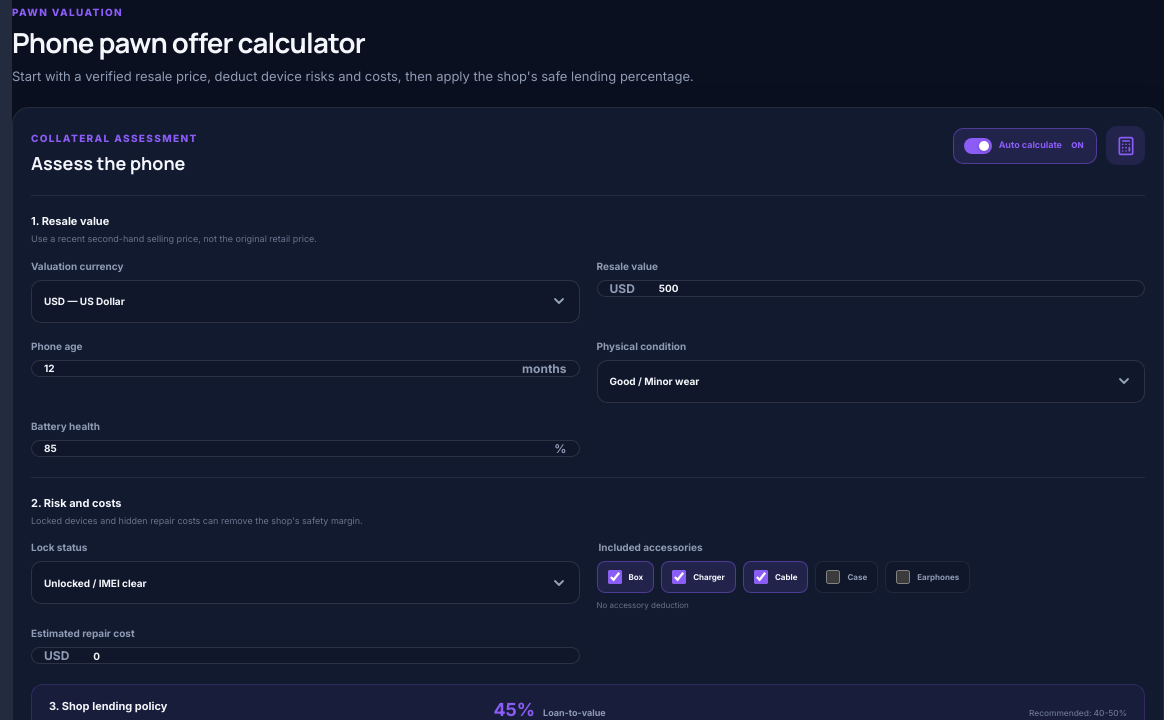
Test: DepreciationPage feature integration › calculates depreciation matching documented business rules using independently calculated expected values
The width and height of the screenshot is (1164, 720).
# Set market price to 600
Step 1. Replace the text in the field labelled "Resale value USD" with "600" → (895, 288), box [647,281,1144,296]
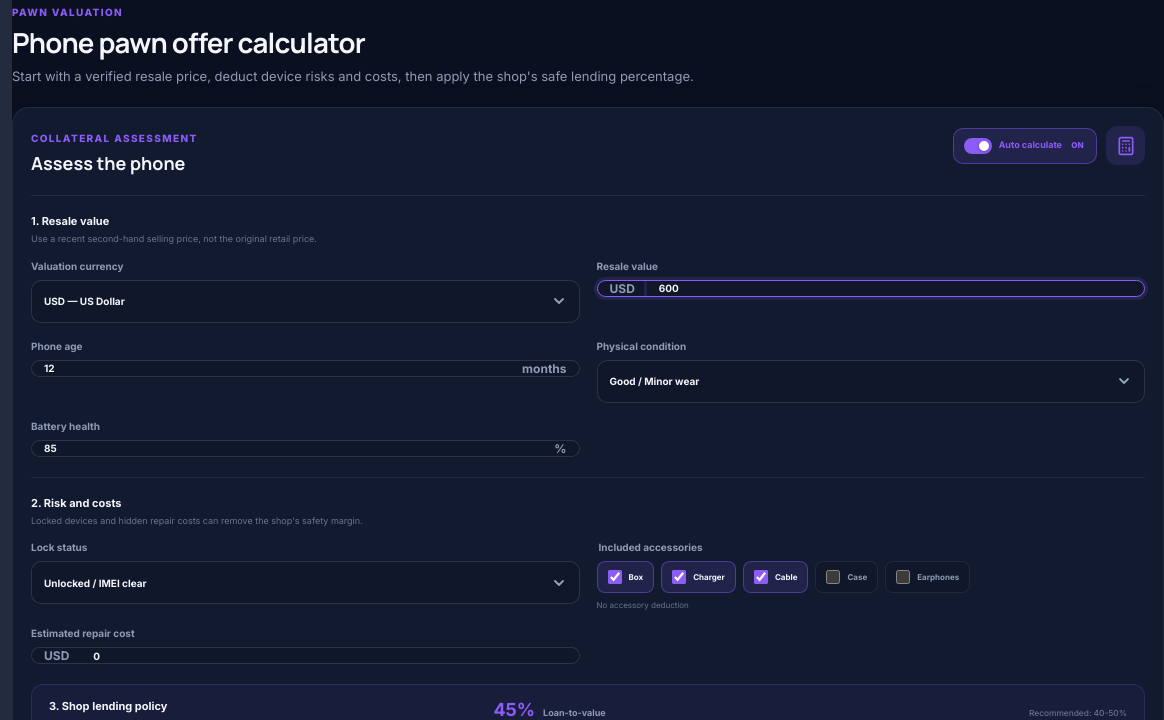
# Set repair cost to 30
Step 2. Replace the text in the field labelled "Estimated repair cost USD" with "30" → (330, 656), box [81,648,578,663]
(page scrolled)
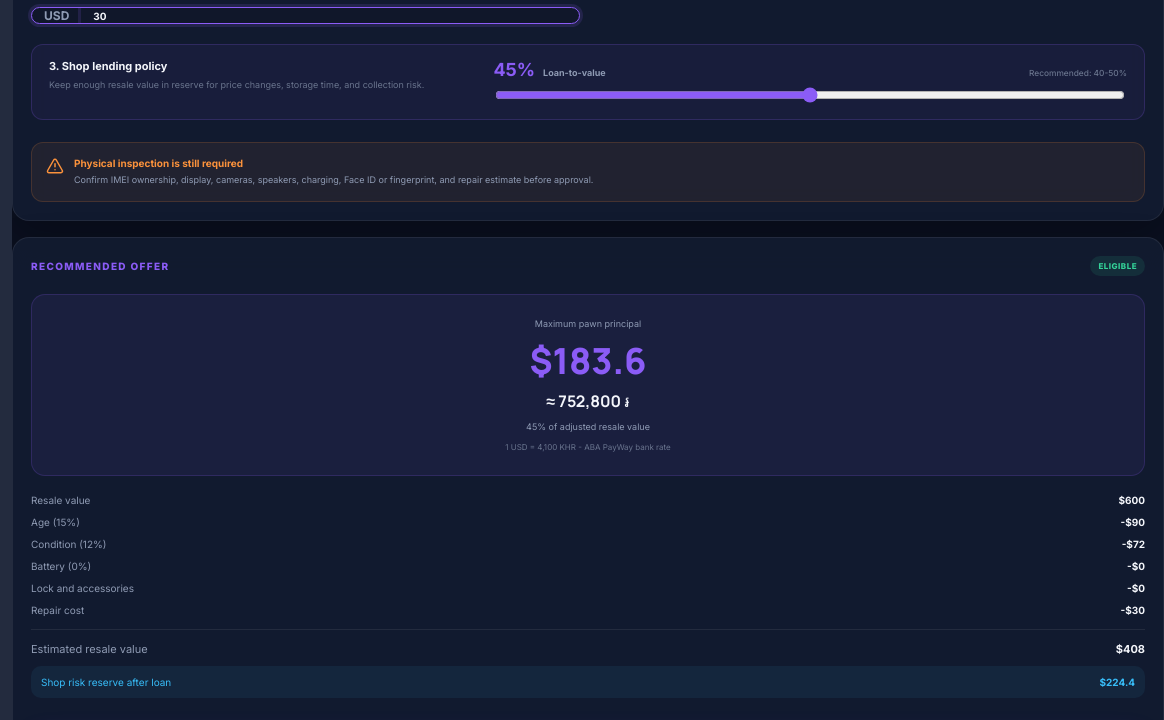
Expected: the element with class "calculation-breakdown" is shown, [31,494,1145,698]
Result: the text "$183.6" is shown at [530,336,646,386]
